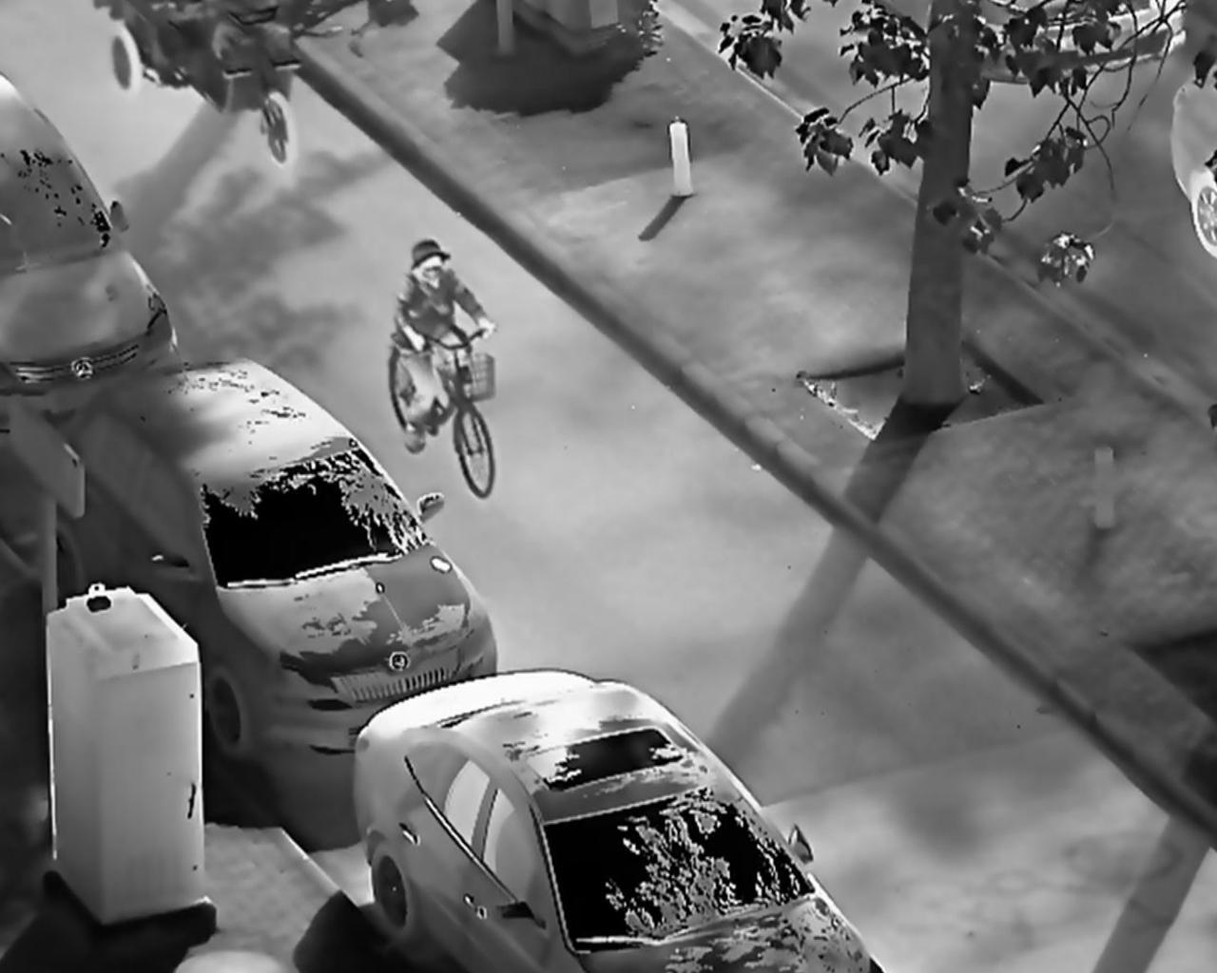person: (394, 238, 501, 455)
